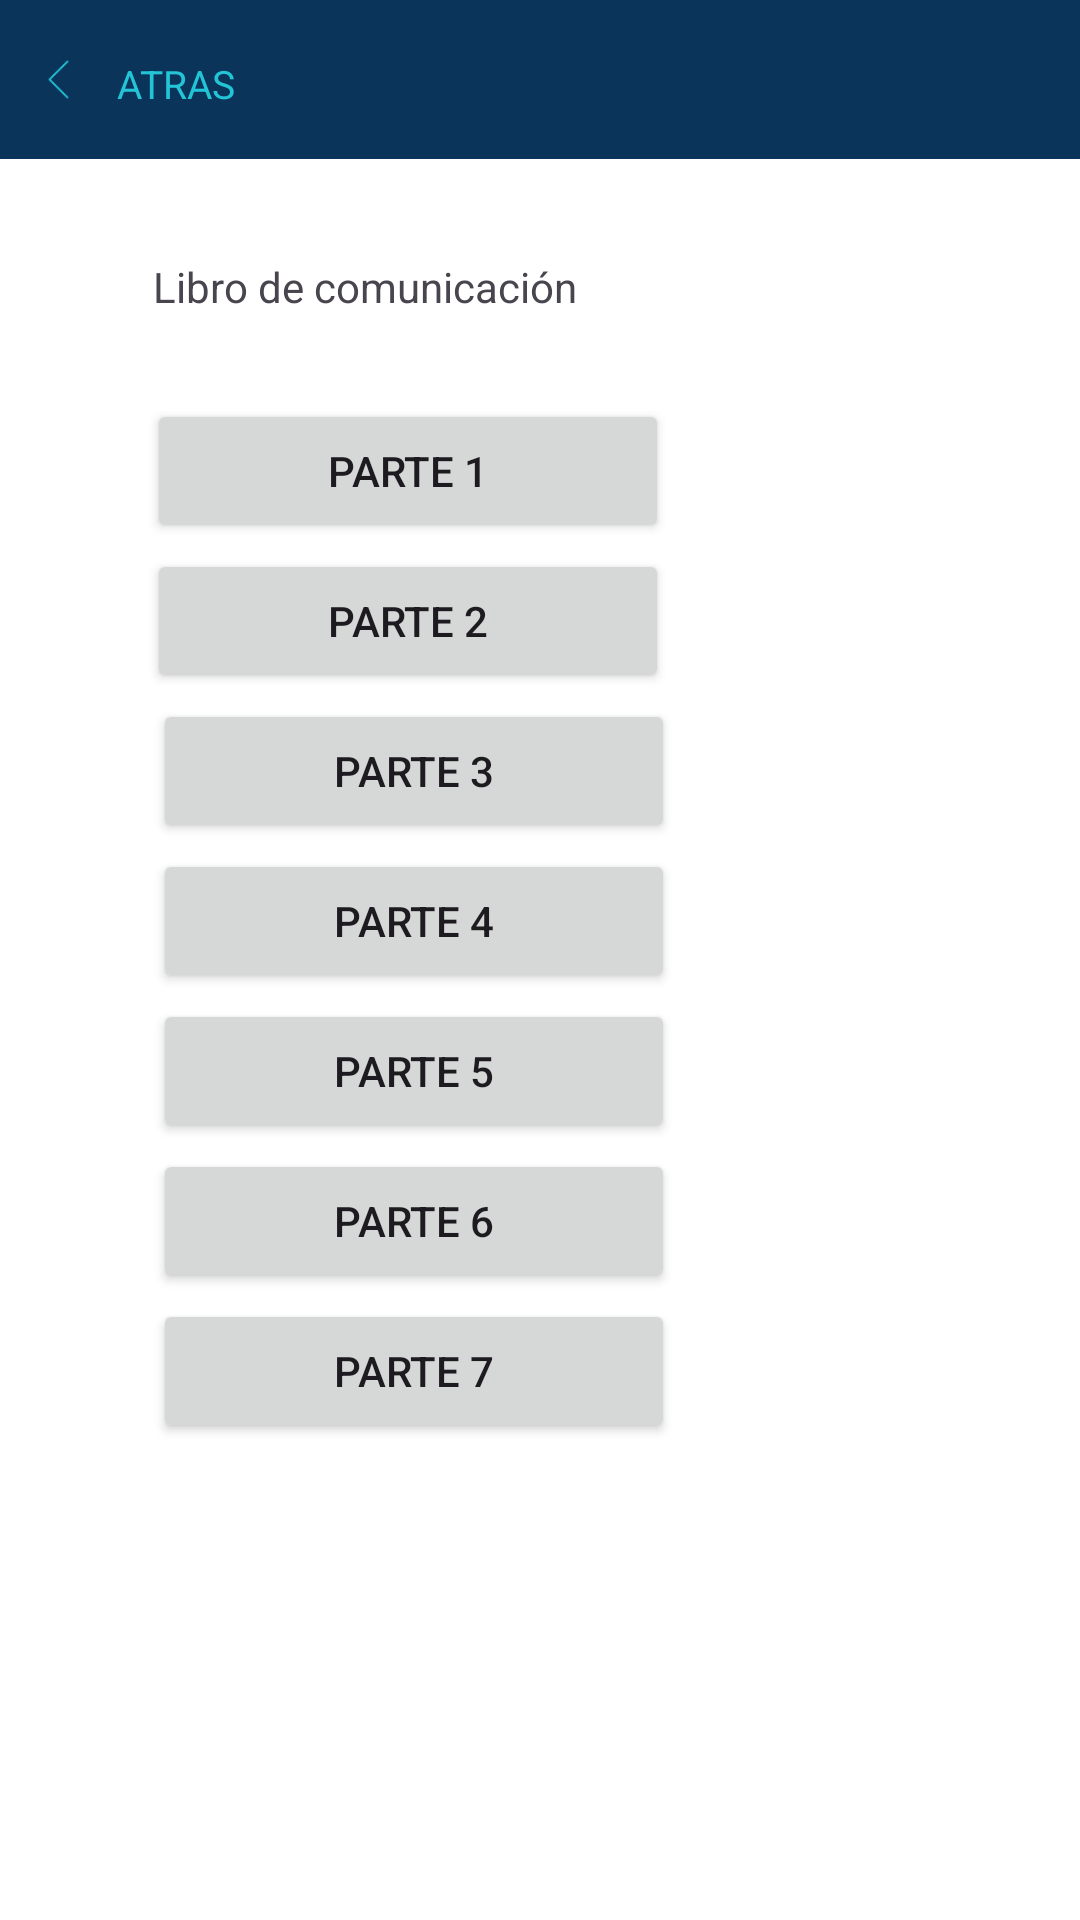

Named icons in this screenshot (1080px×1920px) and their centers, (x,y):
back: (58,79)
